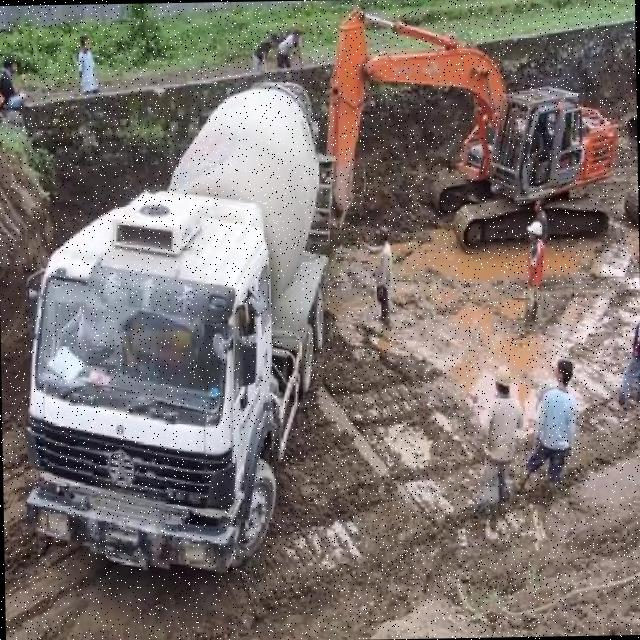Excavator: (319, 4, 619, 242)
